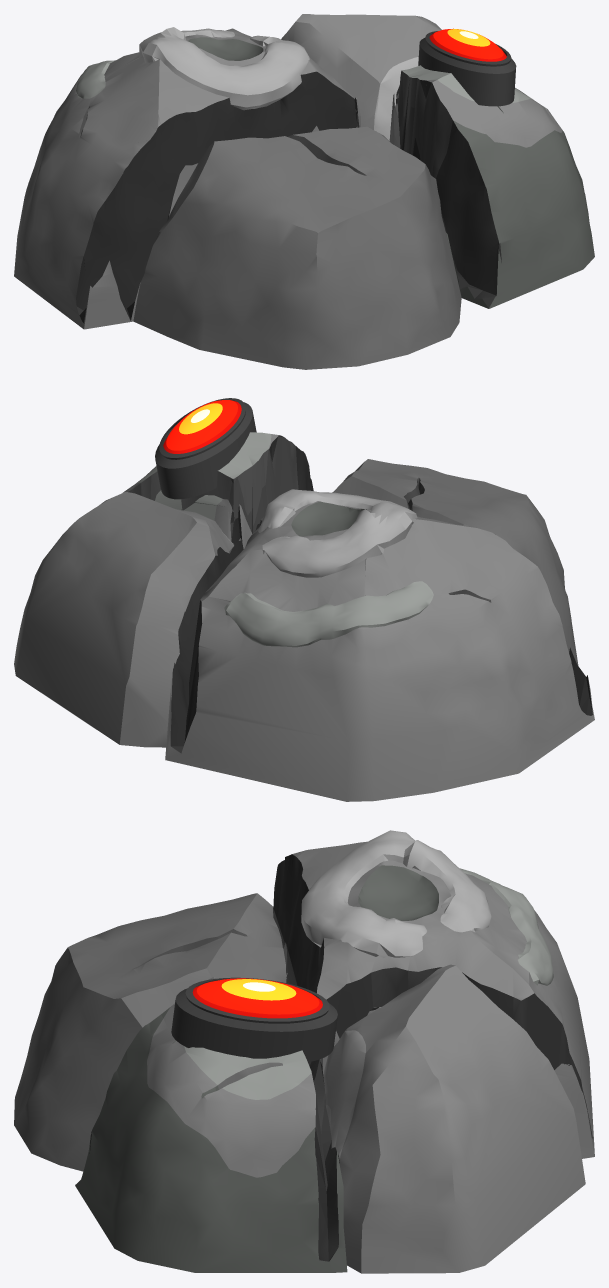
Rendered from rock_beacon_18.glb.
3 renders of one model, top to bottom at view 1: azimuth 30°, elevation 25°; view 2: azimuth 150°, elevation 25°; view 3: azimuth 270°, elevation 25°, orthographic. The views are drawn at different scales.
Parts seen in each view (by area): view 1: rock_beacon_18; view 2: rock_beacon_18; view 3: rock_beacon_18.
Part boxes in pixels (box(x1,y1,x2,y2)): rock_beacon_18: box(14, 14, 594, 369); rock_beacon_18: box(14, 398, 594, 801); rock_beacon_18: box(14, 830, 594, 1273).
Bounding box in the file's own units: 22.14 × 9.49 × 20.06.
